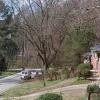Tree: (15, 5, 72, 63)
